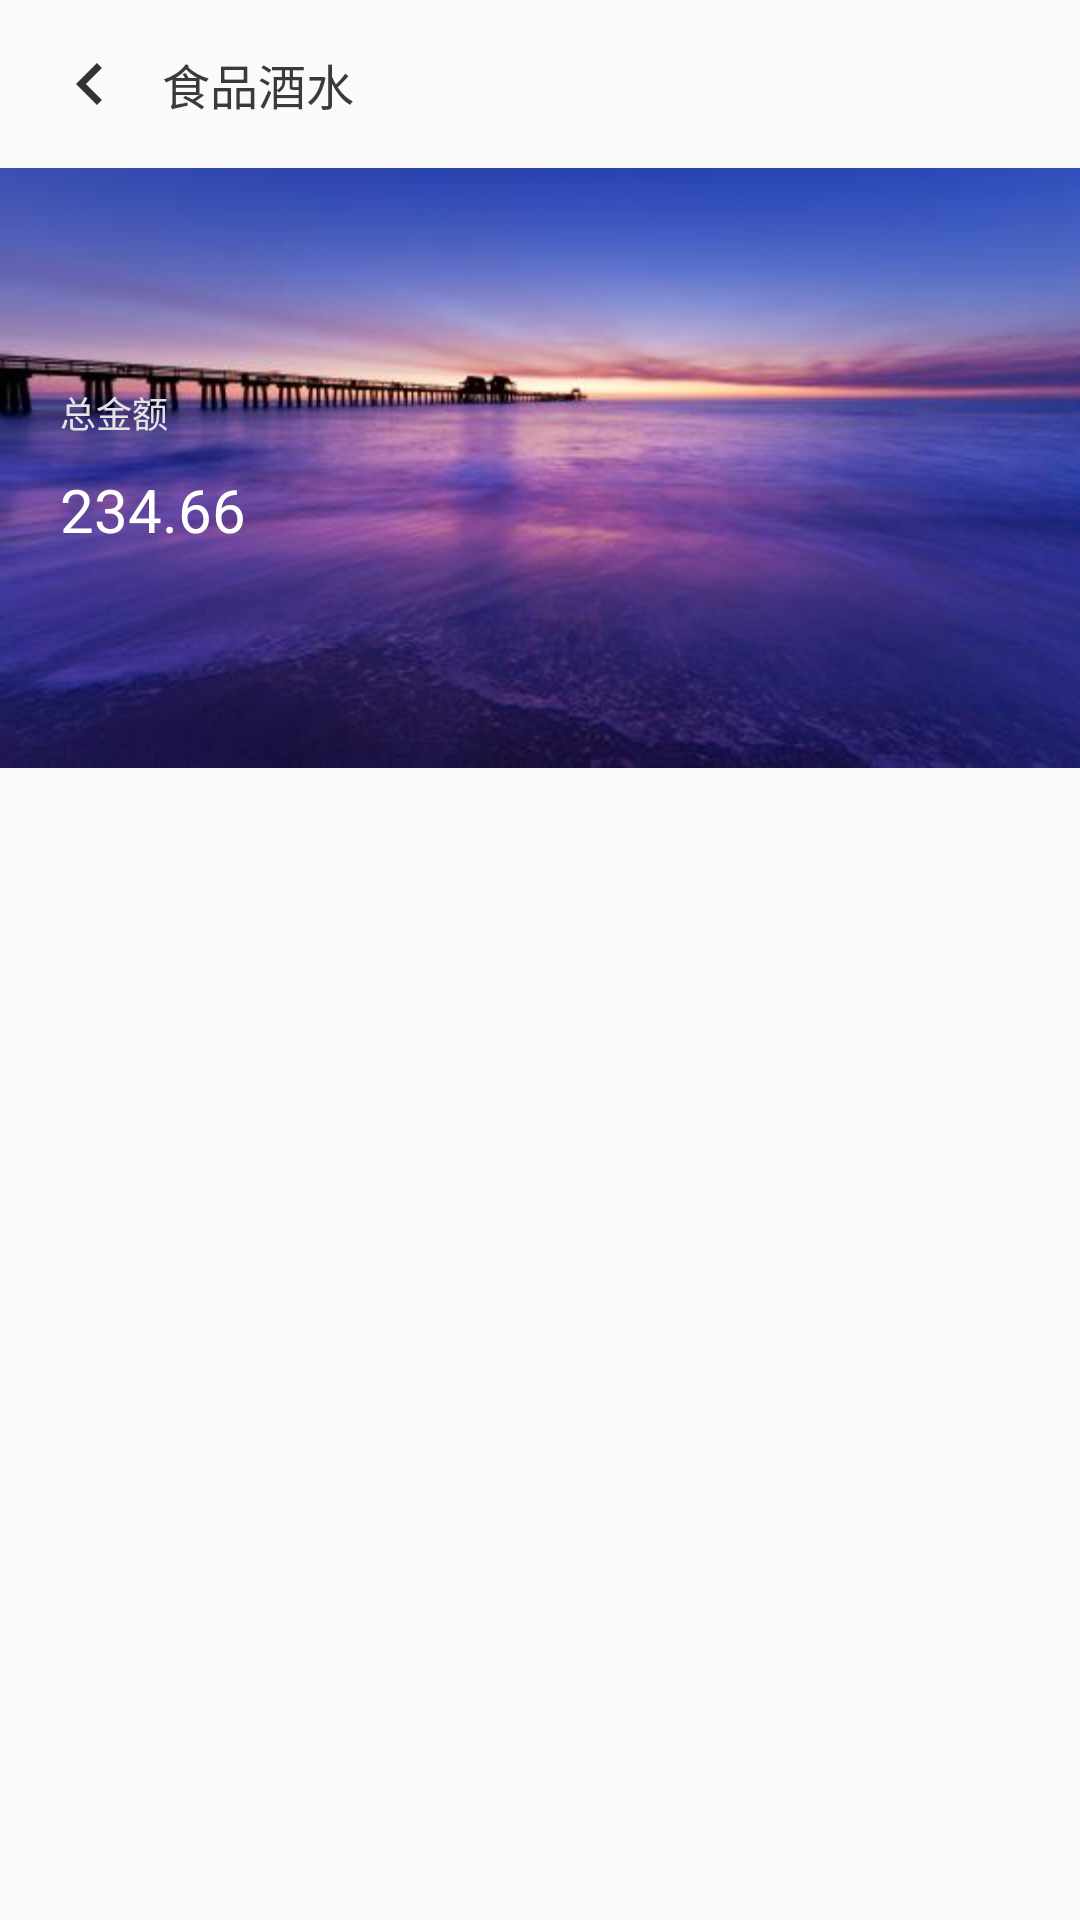

Where icons sit on this 1080×1920 app screen, as bbox(x1, y1, x2, y2):
back: bbox(76, 63, 102, 105)
